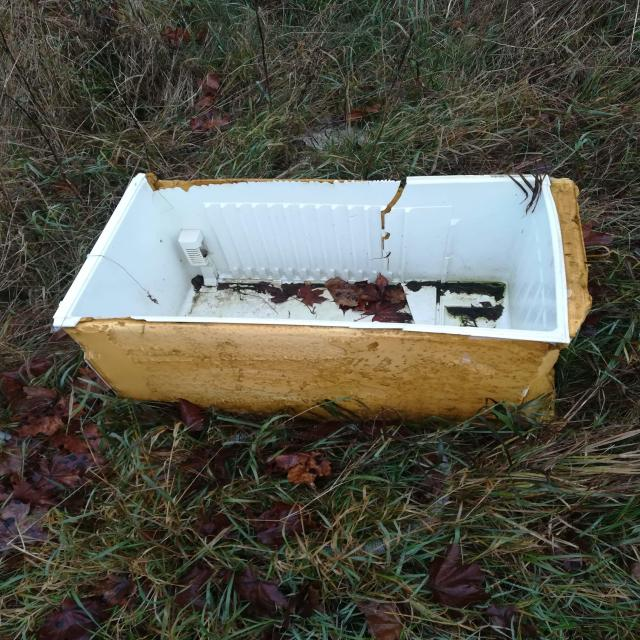litter: (51, 172, 595, 427)
